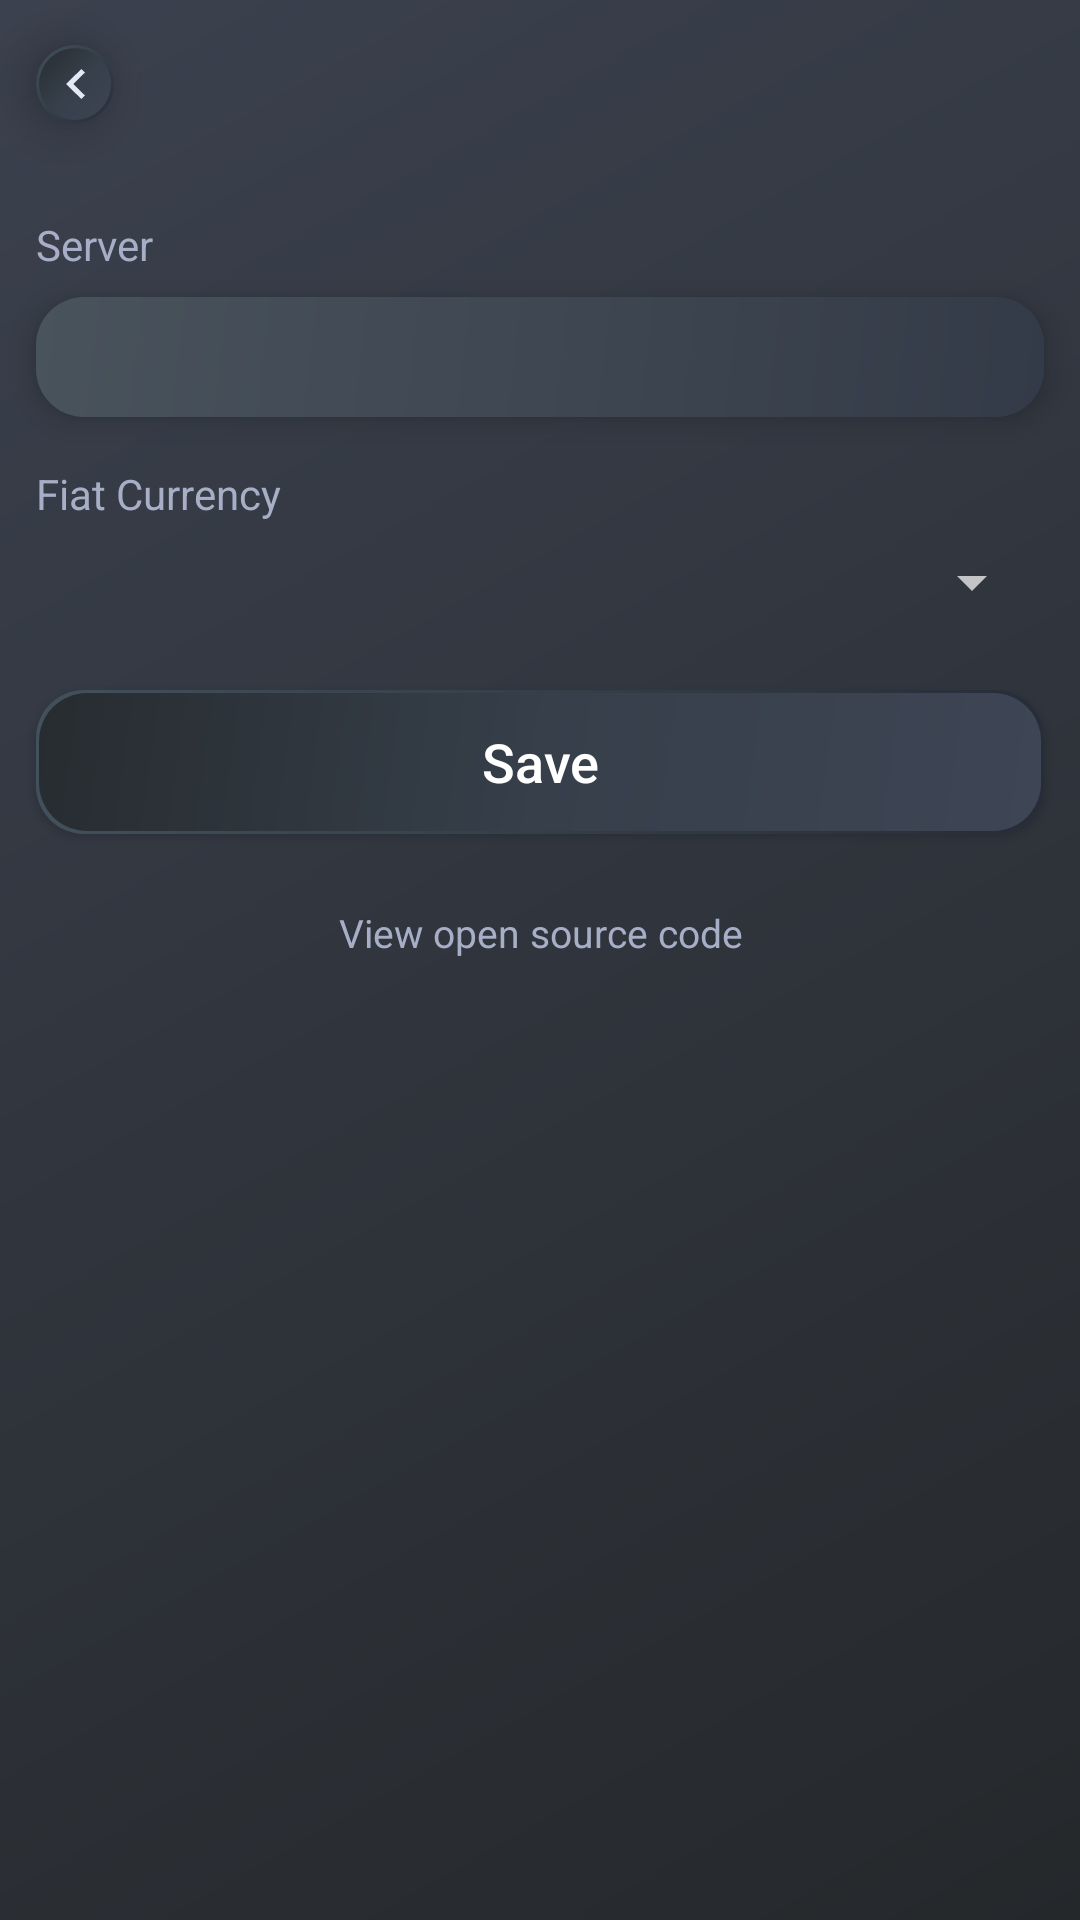

Icon bounding boxes for this 1080w x 1920h phone screenshot, format (x1, y1, x2, y2):
back: (66, 69, 85, 99)
